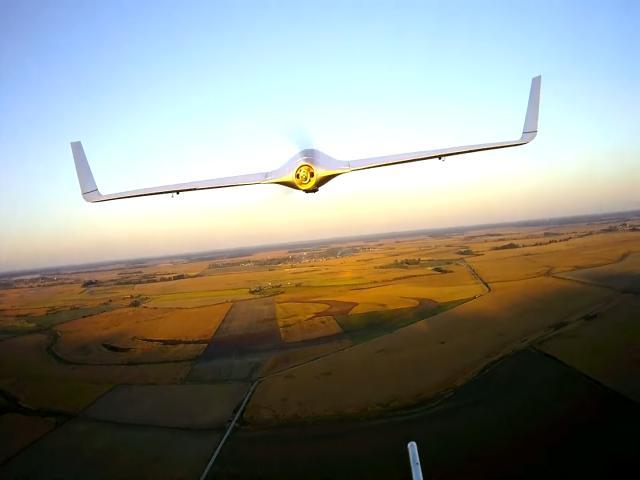plane: (69, 78, 545, 204)
